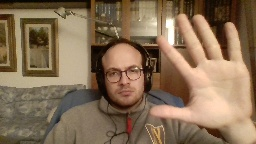Mano_aperta: (147, 8, 254, 131)
